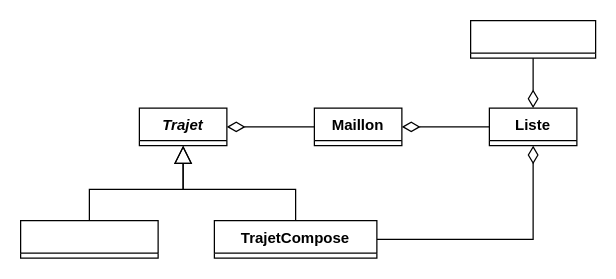
This 616x279 diagram has some shape labels left out. Here are the shapes that lost their labels. From the top down, the centre of each, then its label:
At point 532,38: "Catalogue".
At point 88,238: "TrajetSimple".
